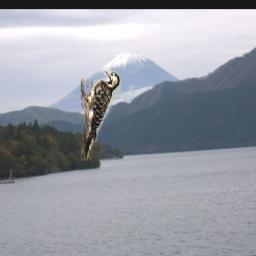Woodpecker: (80, 69, 120, 161)
